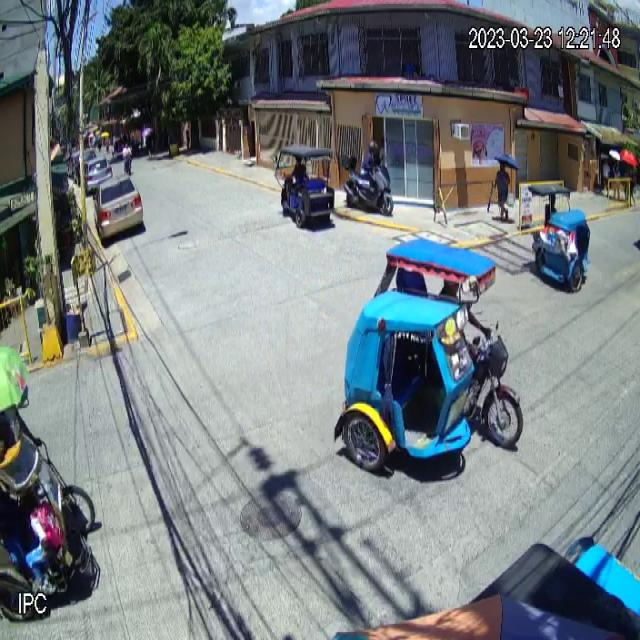Tricycle: (333, 235, 524, 478), (527, 184, 591, 292)
